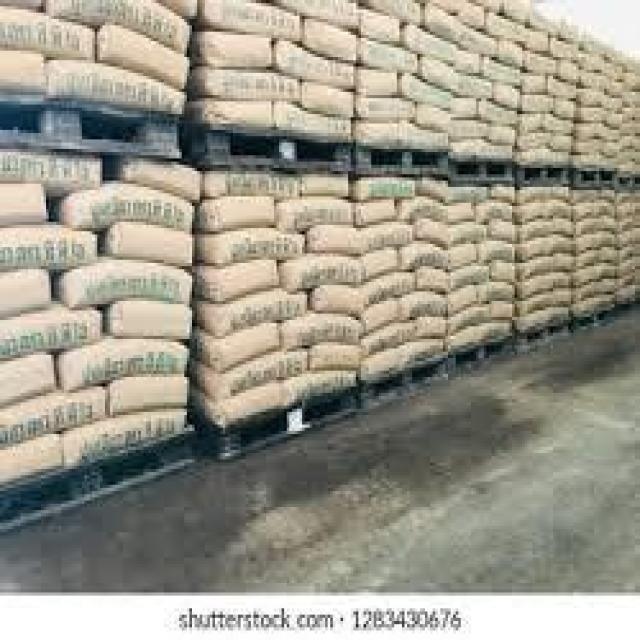gunny_bag: (63, 405, 185, 469), (57, 337, 189, 394), (1, 307, 100, 360), (213, 349, 306, 404), (73, 265, 190, 305), (217, 287, 305, 339), (125, 155, 205, 208), (1, 230, 100, 268), (282, 310, 358, 357), (214, 322, 280, 375), (217, 228, 300, 270), (115, 220, 189, 265), (208, 258, 278, 303), (360, 312, 415, 367), (292, 250, 362, 292), (210, 69, 298, 101), (8, 152, 98, 183), (354, 268, 416, 313), (283, 197, 354, 235), (281, 104, 349, 137), (217, 197, 275, 232), (205, 102, 272, 129), (303, 85, 354, 119), (404, 73, 450, 110), (307, 54, 354, 87), (310, 228, 367, 255), (368, 219, 412, 252), (452, 258, 492, 293), (447, 323, 488, 355), (404, 242, 453, 268), (299, 173, 349, 198), (358, 97, 412, 120), (357, 70, 398, 98), (357, 122, 408, 143), (516, 288, 551, 317), (450, 283, 482, 314), (476, 198, 513, 223), (416, 104, 450, 131), (479, 241, 518, 264), (418, 220, 450, 248), (521, 253, 554, 280), (419, 314, 448, 341), (484, 104, 514, 128), (451, 225, 485, 245), (451, 119, 488, 137), (490, 222, 519, 244), (487, 302, 514, 323), (488, 126, 518, 144), (522, 95, 551, 113), (576, 122, 602, 140), (555, 273, 570, 286)
